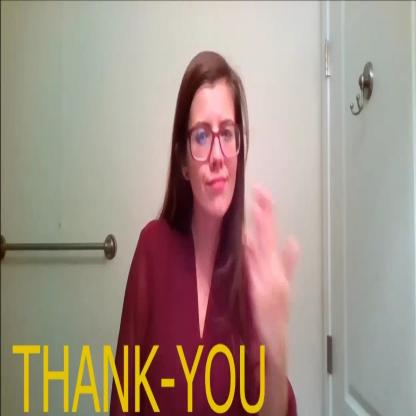ThankYou: (170, 49, 298, 366)
